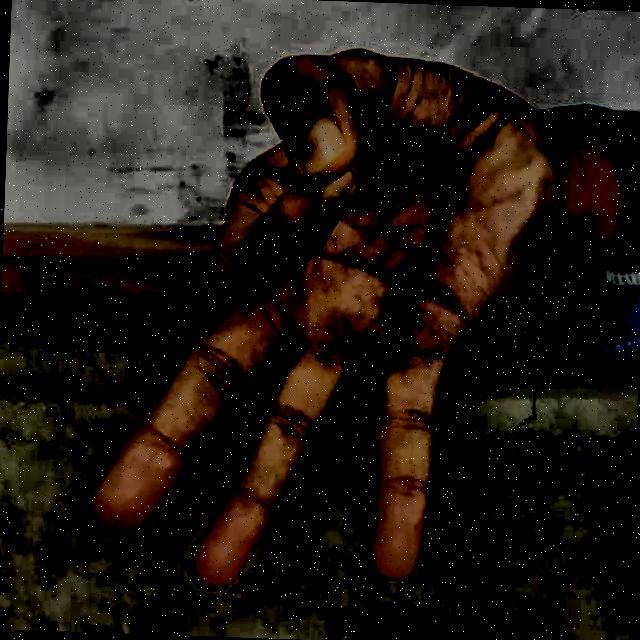Fa: (71, 19, 584, 628)
